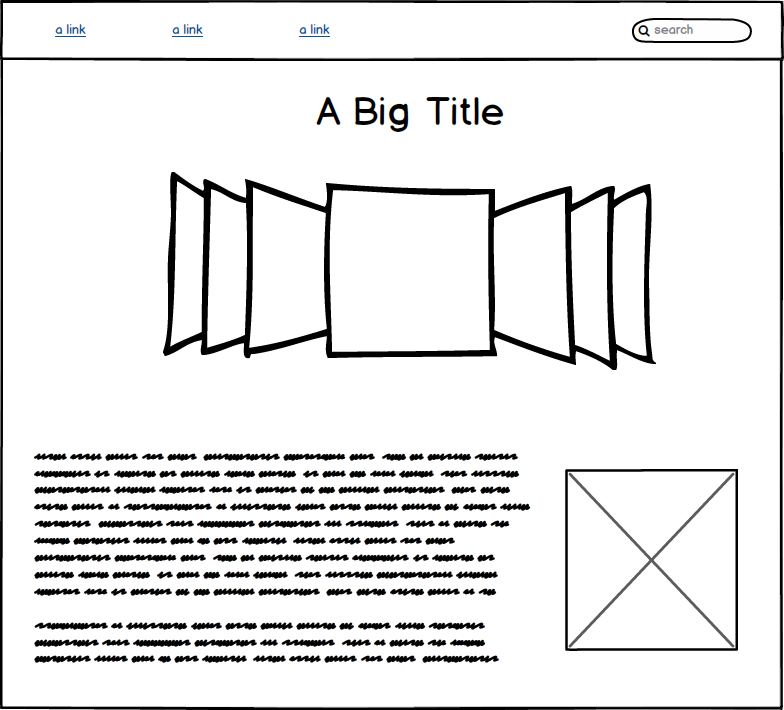h1: (305, 89, 518, 138)
image: (561, 462, 744, 656)
navlink: (164, 15, 212, 44), (46, 18, 95, 44), (291, 16, 337, 42)
p: (24, 445, 538, 671)
search: (624, 13, 756, 47)
slideshow: (154, 167, 666, 376)
